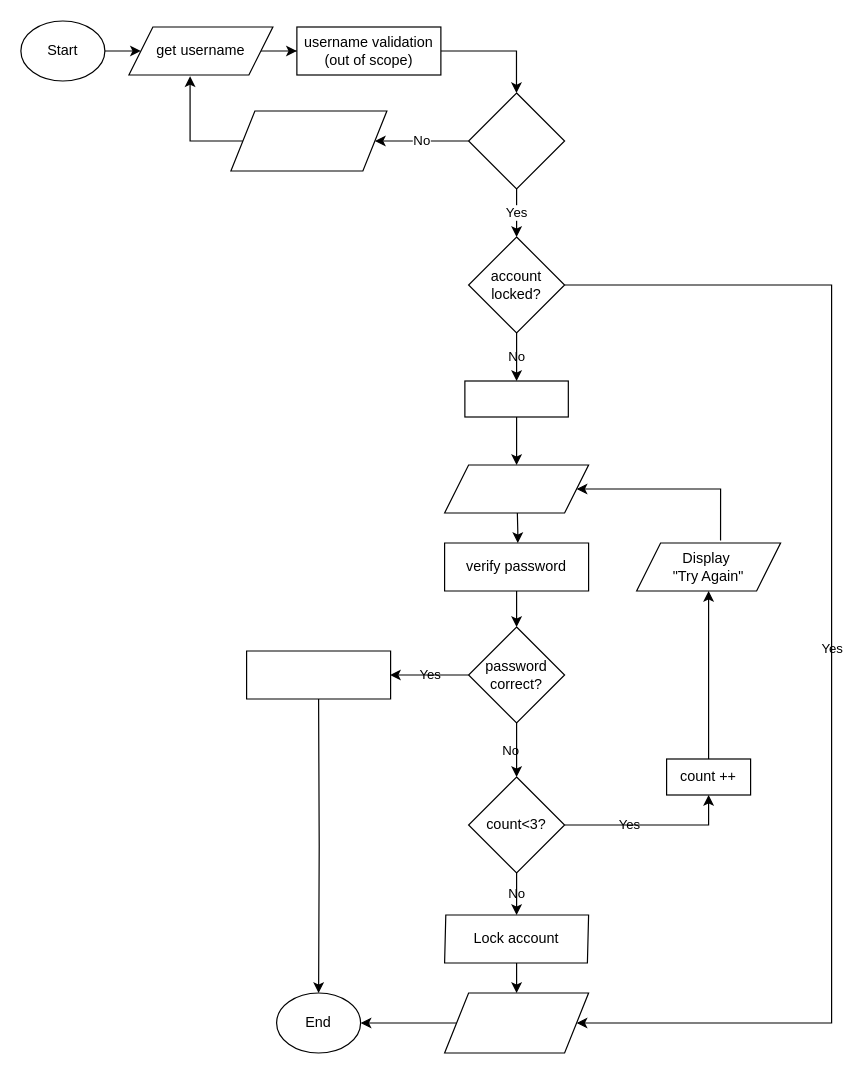
This 864x1074 diagram has some shape labels left out. Each missing label, with the box of its shape:
count = 0: (464, 380, 568, 417)
Display "Account locked": (443, 992, 589, 1053)
Display "invalid username": (230, 110, 387, 171)
get password: (443, 464, 589, 513)
log into account: (245, 650, 391, 699)
username valid?: (467, 92, 565, 189)
